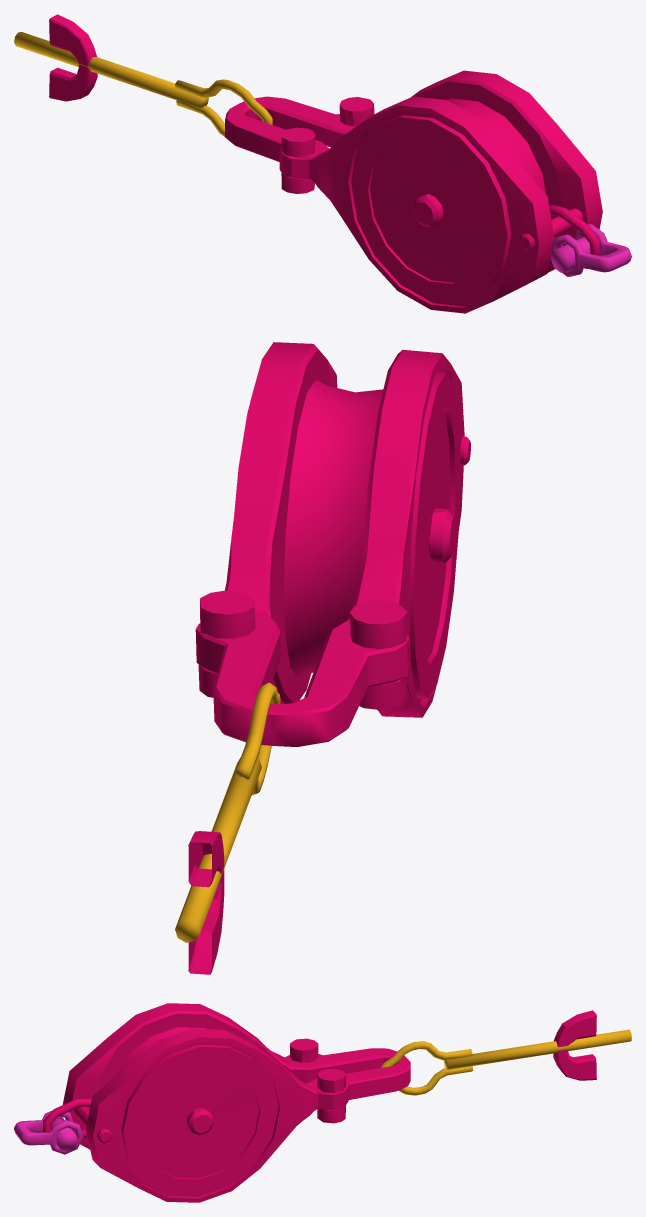
The model's file is New standard return rig.fbx.
The picture shows the model from 3 angles, top to bottom: view 1: azimuth 30°, elevation 25°; view 2: azimuth 150°, elevation 25°; view 3: azimuth 270°, elevation 25°; orthographic projection. The views are drawn at different scales.
Parts seen in each view (by area): view 1: Chain Links.025; view 2: Chain Links.025; view 3: Chain Links.025.
Boxes of the visible parts, x1,y1,x2,y2 form: Chain Links.025: (14, 14, 631, 313); Chain Links.025: (175, 342, 470, 974); Chain Links.025: (14, 1003, 631, 1202).
Size of the model in its own units: 41.76 by 30.24 by 102.
